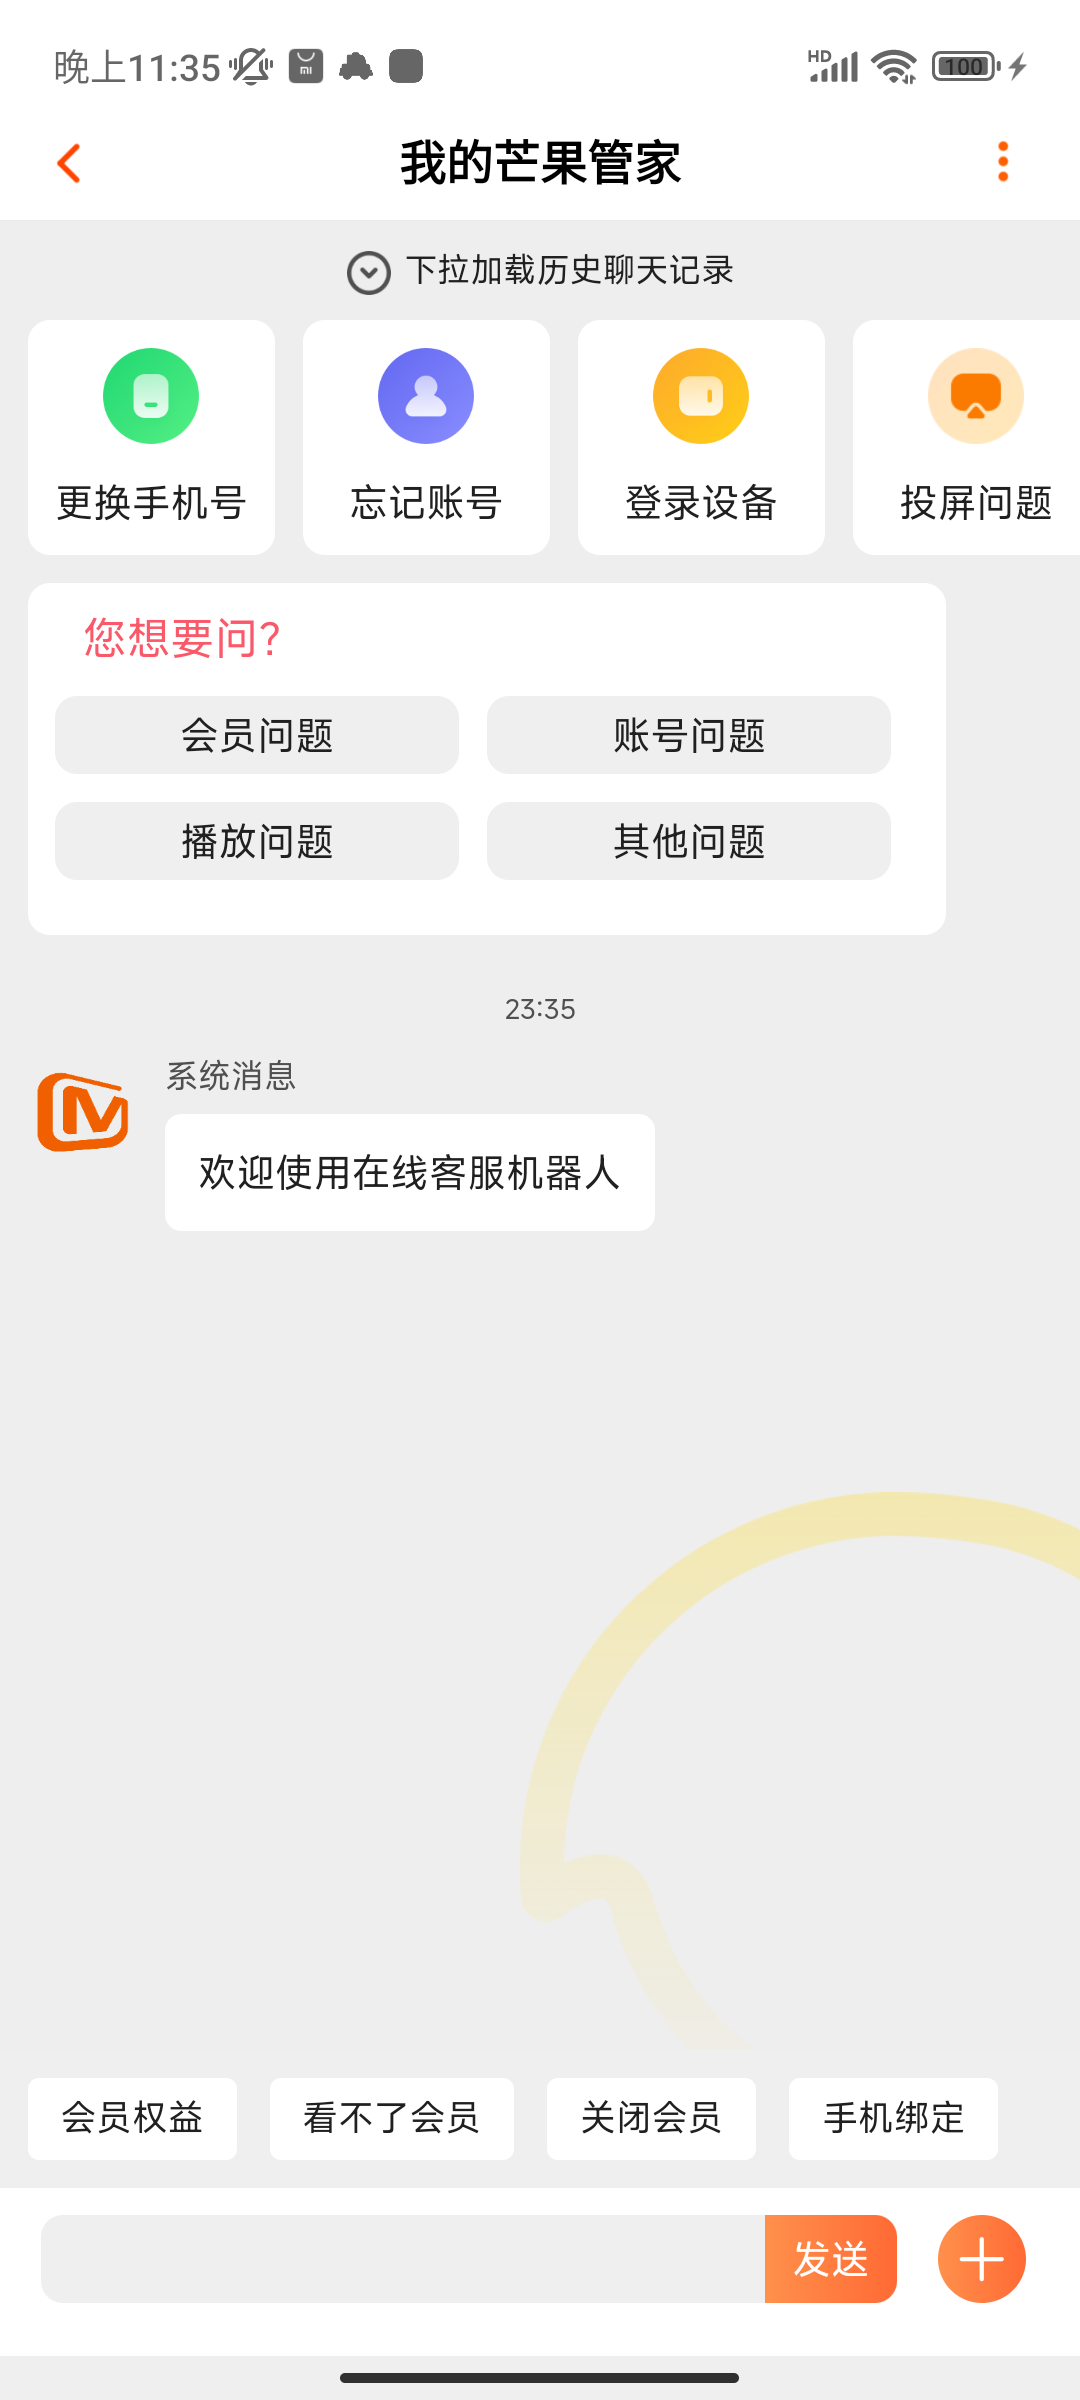ui_group: (301, 308, 558, 572), (581, 308, 831, 565), (28, 318, 278, 562), (858, 315, 1080, 569)
